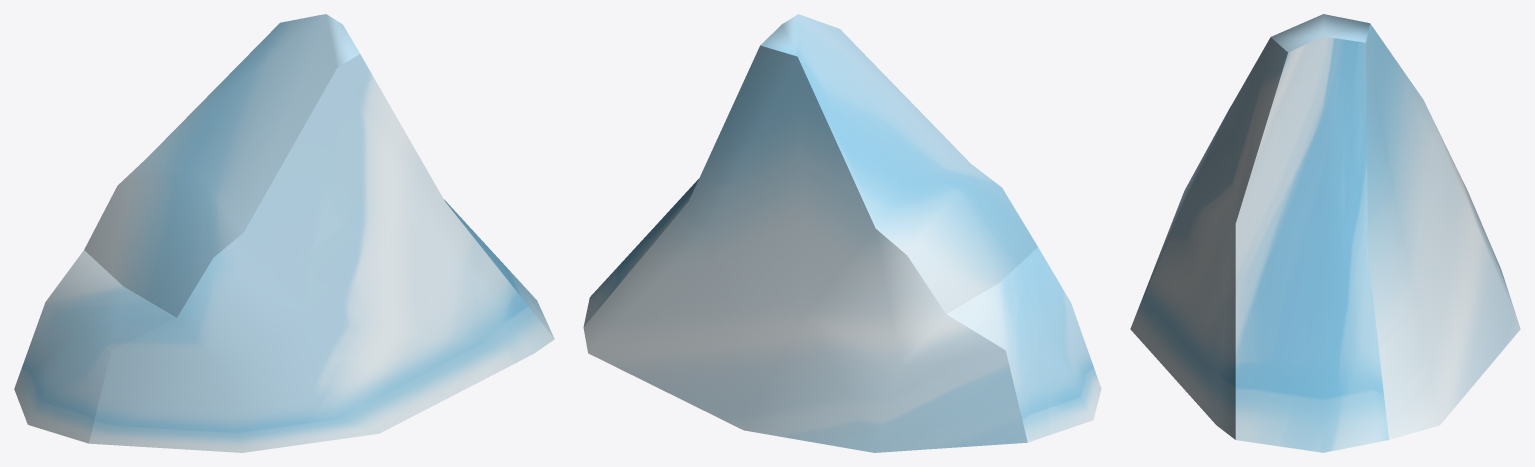
File: ice_01.fbx
The picture shows the model from 3 angles, left to right: view 1: azimuth 30°, elevation 25°; view 2: azimuth 150°, elevation 25°; view 3: azimuth 270°, elevation 25°; orthographic projection.
Visible parts, largest first — view 1: pCube3; view 2: pCube3; view 3: pCube3.
Boxes of the visible parts, x1=… form: pCube3: x1=14, y1=14, x2=554, y2=452; pCube3: x1=583, y1=14, x2=1101, y2=452; pCube3: x1=1130, y1=14, x2=1520, y2=452.
Bounding box in the file's own units: 37.64 × 23.86 × 25.09.
Materials: 1 (1 with a texture image).
